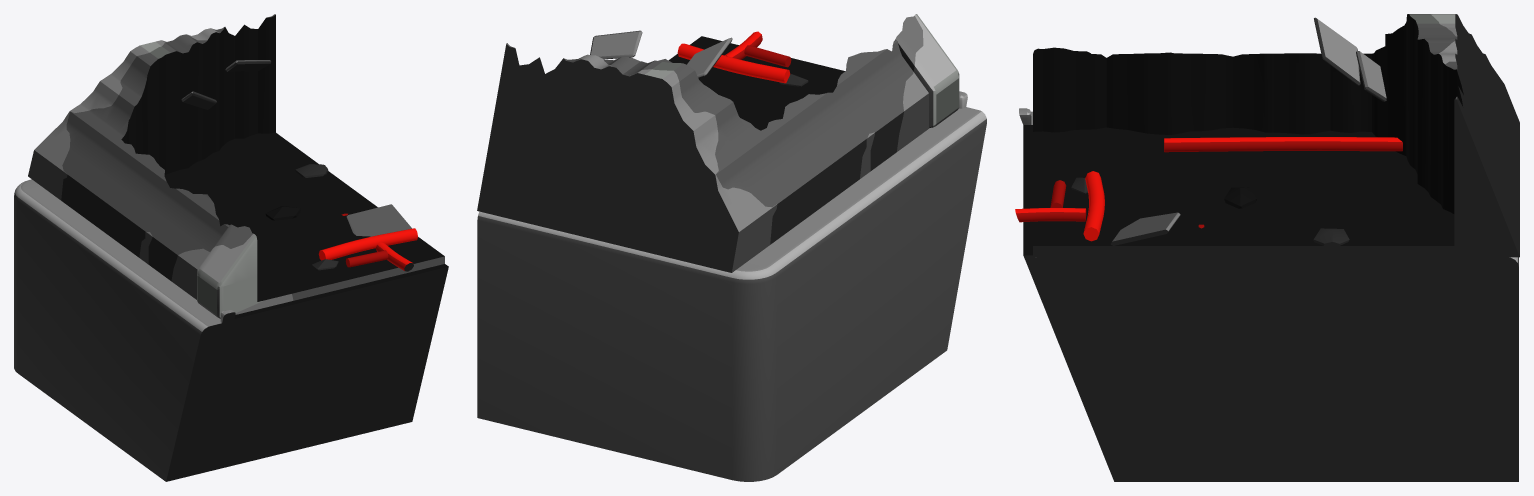
File: cargo_pod_ml_wreck.glb
The picture shows the model from 3 angles, left to right: view 1: azimuth 30°, elevation 25°; view 2: azimuth 150°, elevation 25°; view 3: azimuth 270°, elevation 25°; orthographic projection. The views are drawn at different scales.
Parts seen in each view (by area): view 1: cargo_pod_ml_wreck; view 2: cargo_pod_ml_wreck; view 3: cargo_pod_ml_wreck.
Boxes of the visible parts, x1,y1,x2,y2 form: cargo_pod_ml_wreck: (14,14,448,481); cargo_pod_ml_wreck: (477,14,986,481); cargo_pod_ml_wreck: (1015,14,1519,481).
Size of the model in its own units: 20 by 24 by 28.51.
